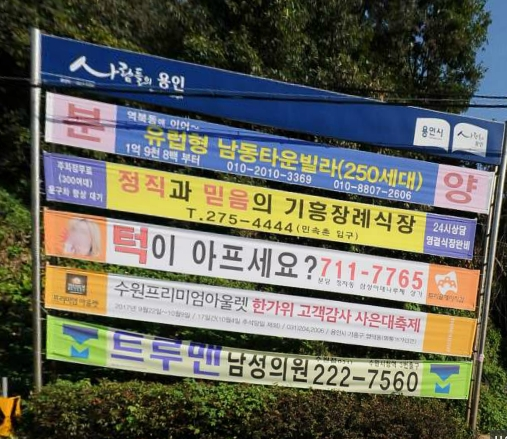banner: (26, 91, 498, 218), (37, 147, 494, 270), (29, 201, 491, 317), (24, 258, 486, 366), (18, 314, 493, 418)
